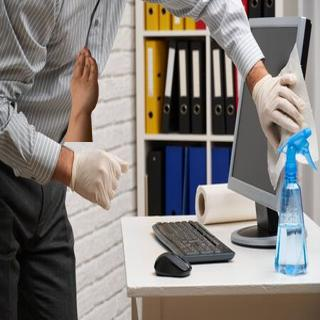RIGHT: (60, 43, 108, 123)
